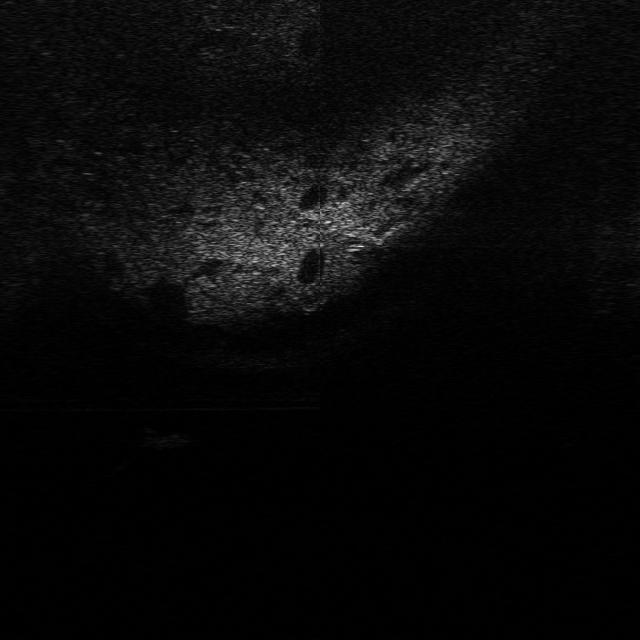ball: (294, 286, 324, 310)
cube: (136, 426, 190, 451)
